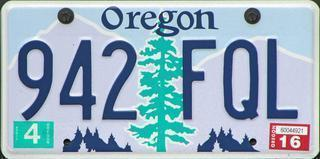placa de veiculo: (4, 2, 317, 153)
